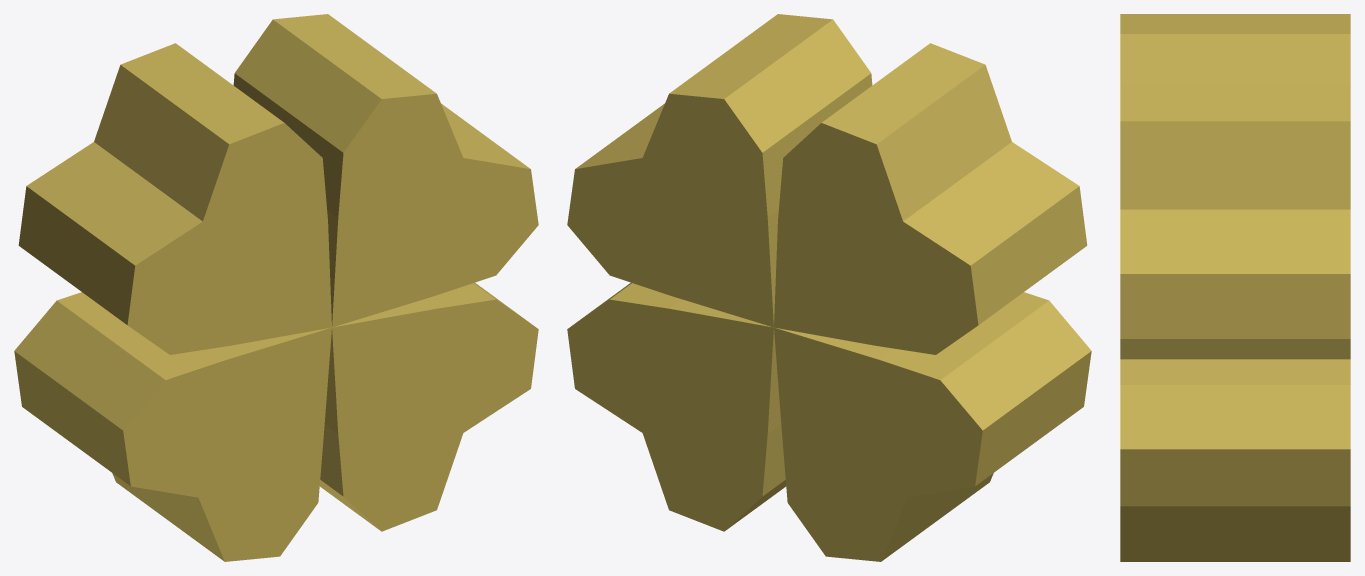
The model's file is Clover.fbx.
3 renders of one model, left to right at view 1: azimuth 30°, elevation 25°; view 2: azimuth 150°, elevation 25°; view 3: azimuth 270°, elevation 25°, orthographic. The views are drawn at different scales.
Visible parts, largest first — view 1: Clover; view 2: Clover; view 3: Clover.
Part boxes in pixels (<box>): Clover: <box>14,14,538,561</box>; Clover: <box>567,14,1091,561</box>; Clover: <box>1120,14,1350,561</box>.
Bounding box in the file's own units: 34.96 × 34.78 × 15.87.
